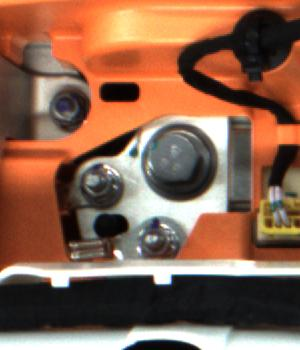nut_b: (133, 118, 233, 212)
